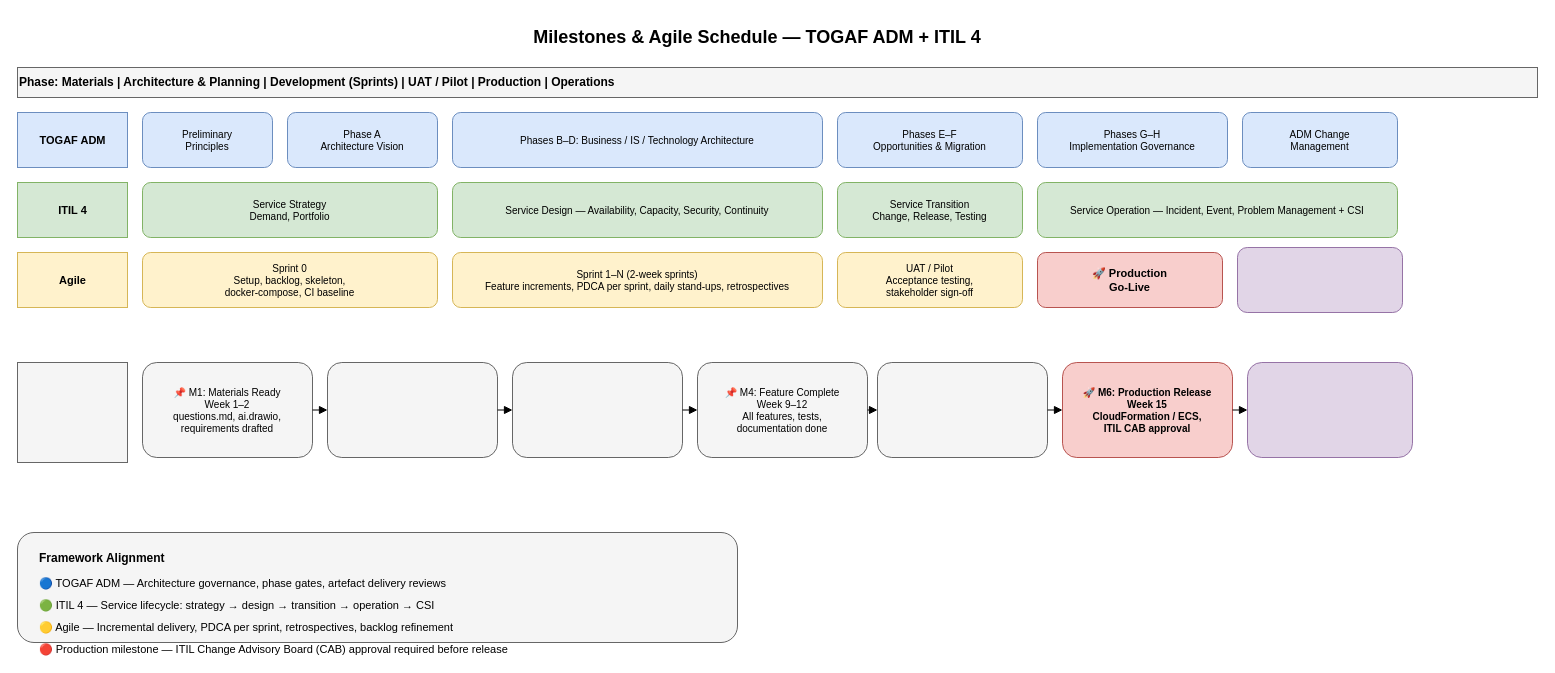
The diagram is 1555 pixels wide and 673 high, and some of its shapes have lost their labels. Here are the shapes that lost their labels. From the top down, the box of each, then its label:
(1236, 246, 1402, 312): 🔄 Operations Monitoring, alerting, incident response, continuous improvement
(16, 362, 128, 462): Hello-World Sample Schedule
(326, 362, 498, 458): 📌 M2: Architecture Baseline Week 3–4 Specs, ASRs, ADRs finalised in repo
(512, 362, 682, 458): 📌 M3: MVP (Sprint 2) Week 5–8 Core alarm workflow running end-to-end
(876, 362, 1048, 458): 📌 M5: UAT Sign-off Week 13–14 Acceptance tests pass, change record approved
(1246, 362, 1412, 458): 🔄 M7: Steady-State Ops Week 16+ Grafana/Loki monitoring, incident SLAs active
